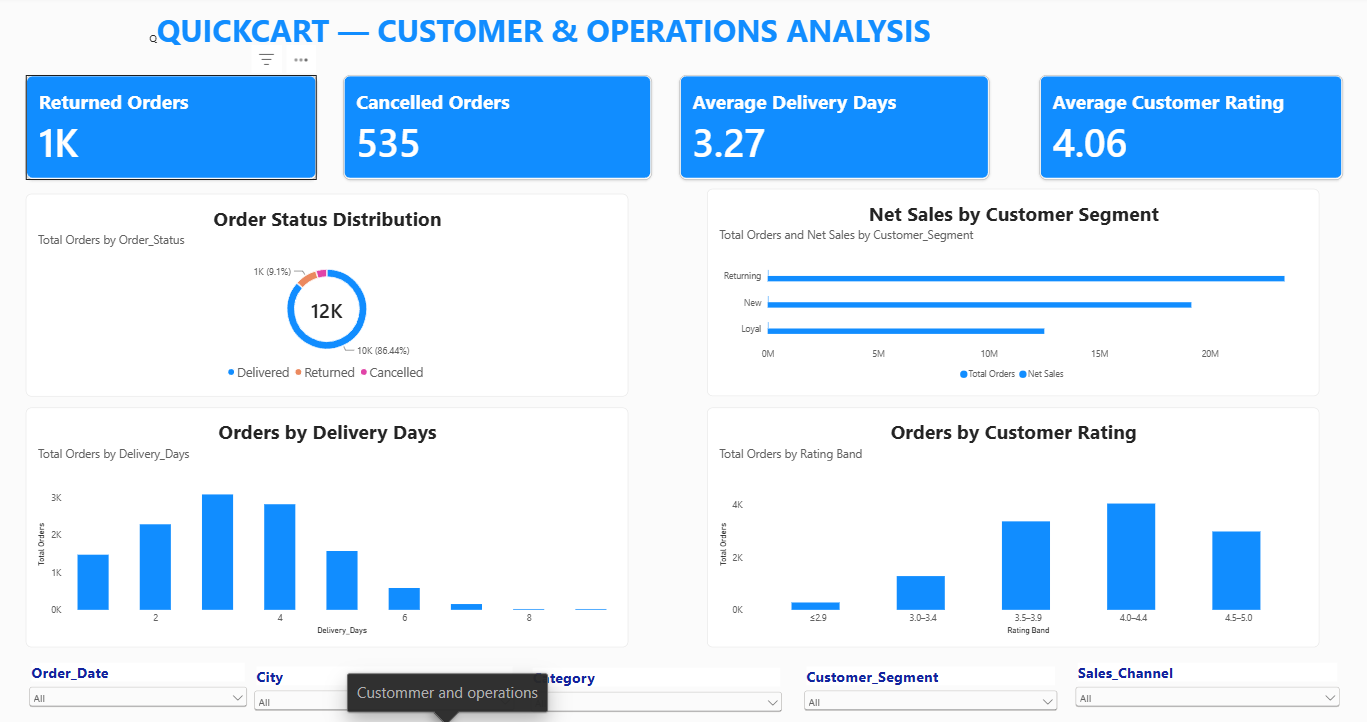

This screenshot's page, from the dashboard's own definition file:
{"tool":"powerbi","page":{"name":"Custommer and operations","canvas":[1900,1000],"ordinal":1},"visuals":[{"type":"textbox","box":[10.4,12.1,1285.9,120.8],"z":0},{"type":"cardVisual","fields":{"Data":["Cleaned_Data.Average Delivery Days"]},"box":[949.3,103.6,428.1,145],"z":6},{"type":"cardVisual","fields":{"Data":["Cleaned_Data.Cancelled Orders"]},"box":[485,103.6,426.3,145],"z":8},{"type":"cardVisual","fields":{"Data":["Cleaned_Data.Returned Orders"]},"box":[46.6,103.6,402.2,145],"z":9},{"type":"cardVisual","fields":{"Data":["Cleaned_Data.Average Customer Rating"]},"box":[1446.4,103.6,419.4,145],"z":10},{"type":"donutChart","title":"Order Status Distribution","fields":{"Category":["Cleaned_Data.Order_Status"],"Y":["Cleaned_Data.Total Orders"]},"box":[46.6,267.5,831.9,279.6],"z":12},{"type":"clusteredBarChart","title":"Net Sales by Customer Segment","fields":{"Category":["Cleaned_Data.Customer_Segment"],"Y":["Cleaned_Data.Total Orders","Cleaned_Data.Net Sales"]},"box":[987.3,260.6,845.8,286.5],"z":13},{"type":"clusteredColumnChart","title":"Orders by Delivery Days","fields":{"Category":["Cleaned_Data.Delivery_Days"],"Y":["Cleaned_Data.Total Orders"]},"box":[46.6,562.7,831.9,331.4],"z":14},{"type":"clusteredColumnChart","title":"Orders by Customer Rating","fields":{"Category":["Cleaned_Data.Rating Band"],"Y":["Cleaned_Data.Total Orders"]},"box":[987.3,562.7,845.8,331.4],"z":15},{"type":"slicer","fields":{"Values":["Cleaned_Data.Order_Date"]},"box":[46.6,914.8,310.7,75.9],"z":16},{"type":"slicer","fields":{"Values":["Cleaned_Data.City"]},"box":[357.3,920,369.4,77.7],"z":17},{"type":"slicer","fields":{"Values":["Cleaned_Data.Category"]},"box":[738.7,921.7,357.3,75.9],"z":18},{"type":"slicer","fields":{"Values":["Cleaned_Data.Customer_Segment"]},"box":[1116.7,920,359,79.4],"z":19},{"type":"slicer","fields":{"Values":["Cleaned_Data.Sales_Channel"]},"box":[1491.3,914.8,374.5,74.2],"z":20}]}

Visuals, with their boxes on the page's 1900x1000 design canvas (x1, y1, x2, y2). These are canvas units, not pixel positions in the 1367x722 screenshot, which may show the page scaled, cropped or inside an application window:
textbox: bbox(10, 12, 1296, 133)
cardVisual - Cleaned_Data.Average Delivery Days: bbox(949, 104, 1377, 249)
cardVisual - Cleaned_Data.Cancelled Orders: bbox(485, 104, 911, 249)
cardVisual - Cleaned_Data.Returned Orders: bbox(47, 104, 449, 249)
cardVisual - Cleaned_Data.Average Customer Rating: bbox(1446, 104, 1866, 249)
"Order Status Distribution" donutChart: bbox(47, 268, 878, 547)
"Net Sales by Customer Segment" clusteredBarChart: bbox(987, 261, 1833, 547)
"Orders by Delivery Days" clusteredColumnChart: bbox(47, 563, 878, 894)
"Orders by Customer Rating" clusteredColumnChart: bbox(987, 563, 1833, 894)
slicer - Cleaned_Data.Order_Date: bbox(47, 915, 357, 991)
slicer - Cleaned_Data.City: bbox(357, 920, 727, 998)
slicer - Cleaned_Data.Category: bbox(739, 922, 1096, 998)
slicer - Cleaned_Data.Customer_Segment: bbox(1117, 920, 1476, 999)
slicer - Cleaned_Data.Sales_Channel: bbox(1491, 915, 1866, 989)
